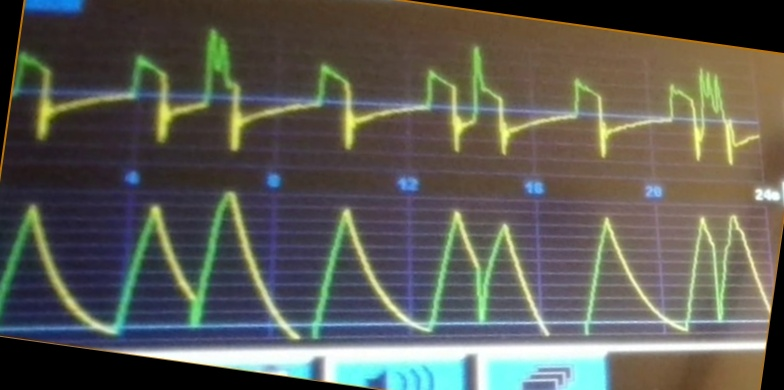Double_Triggering Flow: (22, 23, 759, 167)
Double_Triggering Volume: (3, 189, 768, 339)
